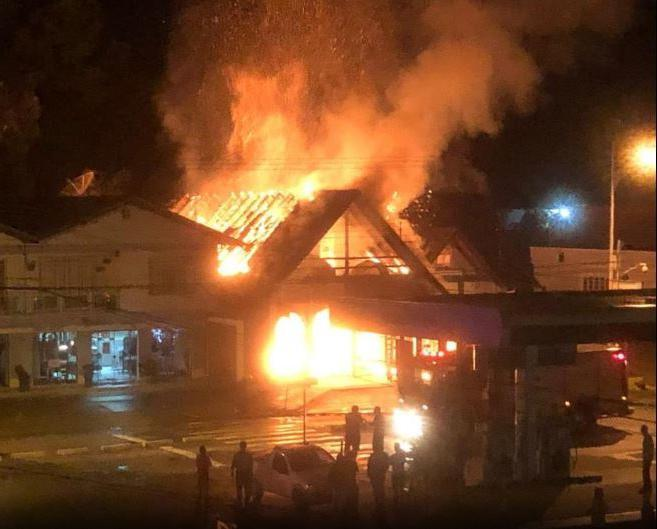Fire: (266, 307, 390, 381), (185, 175, 323, 236), (218, 239, 257, 278), (364, 252, 407, 277), (388, 189, 408, 213)
